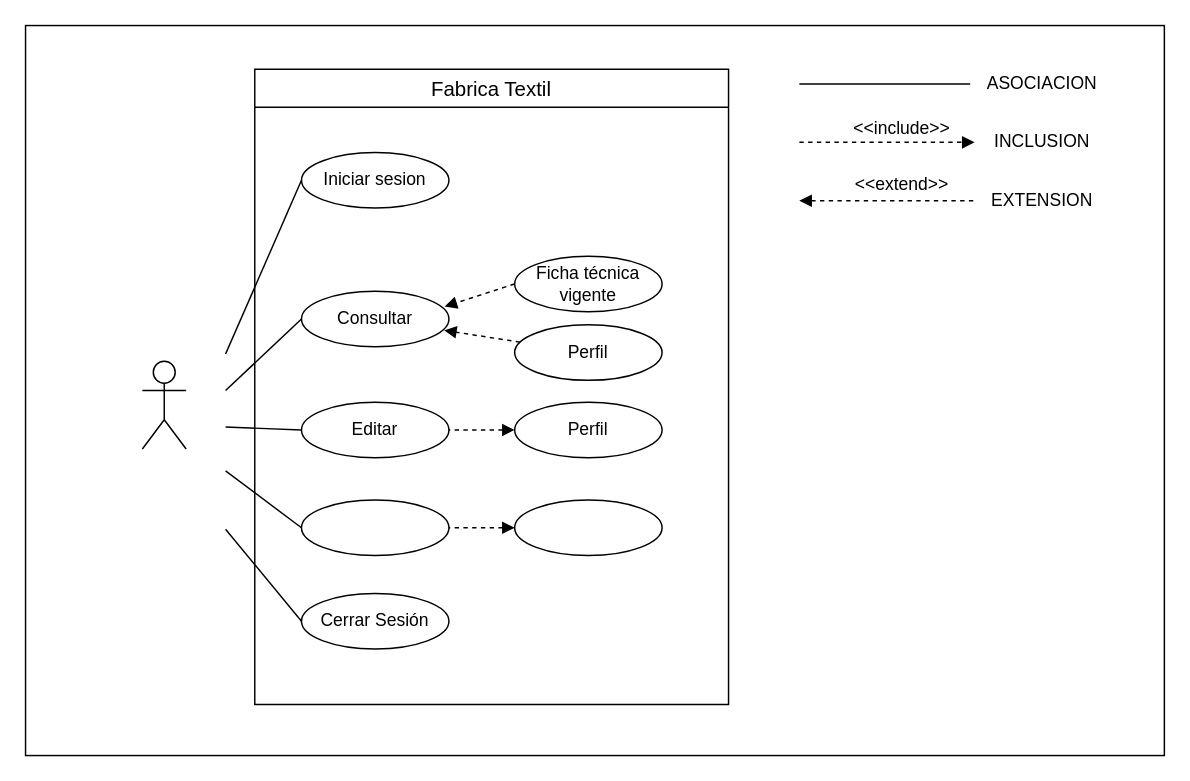
Some shapes in this 1190 by 781 pixel diagram are drawn without their labels. The shapes that lost their labels are listed below. From the top down, each one's centre as x and y in pixels, then its label:
pixel 163 404: Empleado
pixel 374 527: Interactuar
pixel 587 527: Mensajeria
